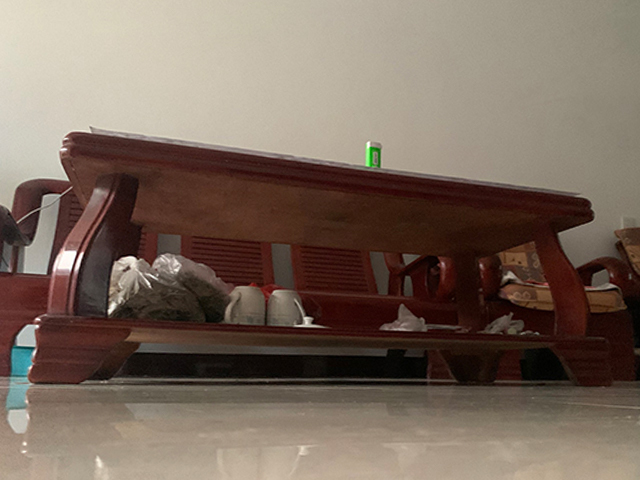sofa: (479, 240, 640, 384), (1, 177, 76, 379)
table: (27, 130, 615, 389)
